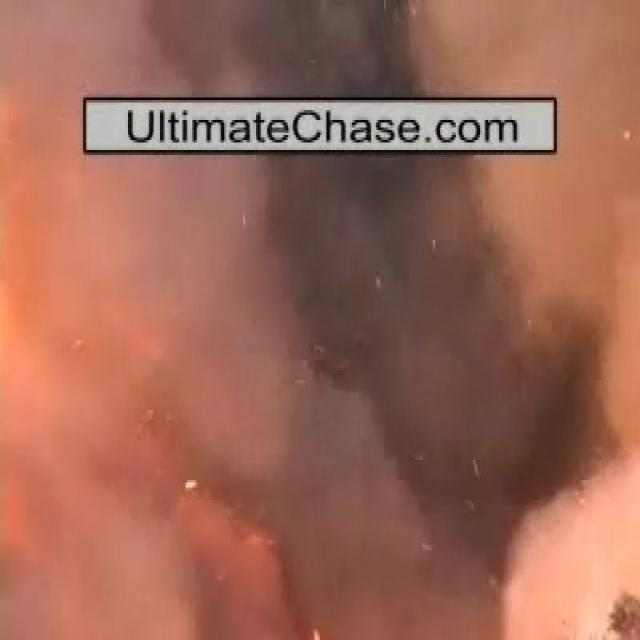Smoke: (74, 161, 558, 578)
